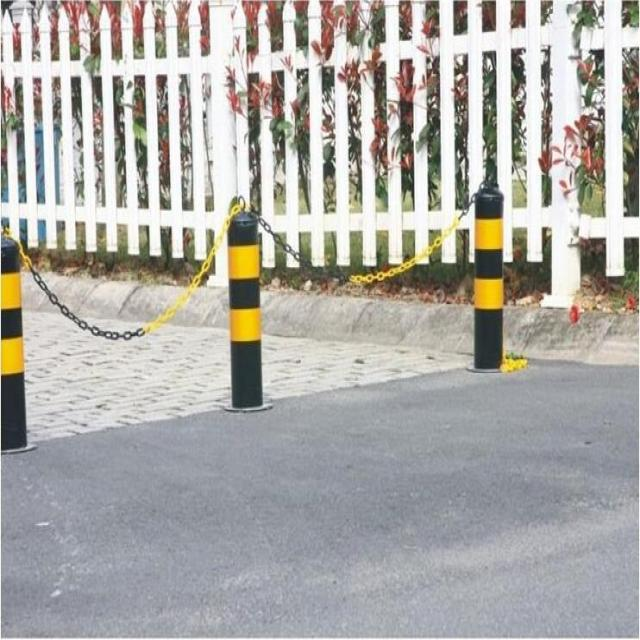warning_column: (222, 195, 272, 412), (469, 179, 506, 373), (0, 230, 28, 450)
